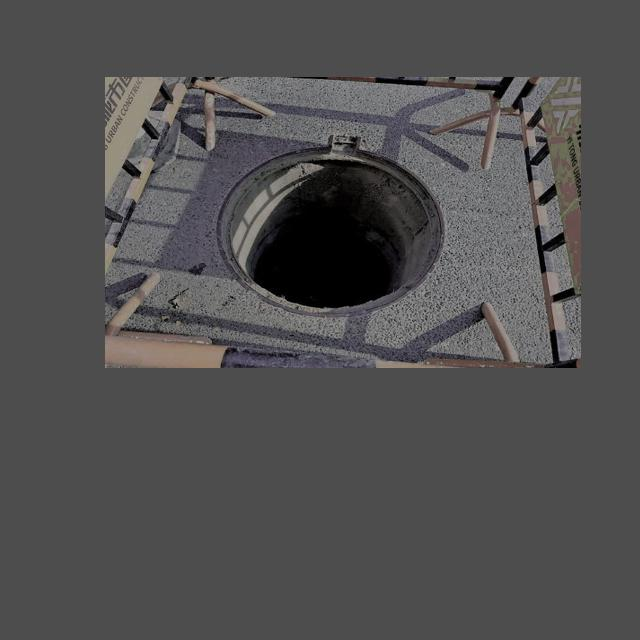lose: (210, 144, 449, 316)
